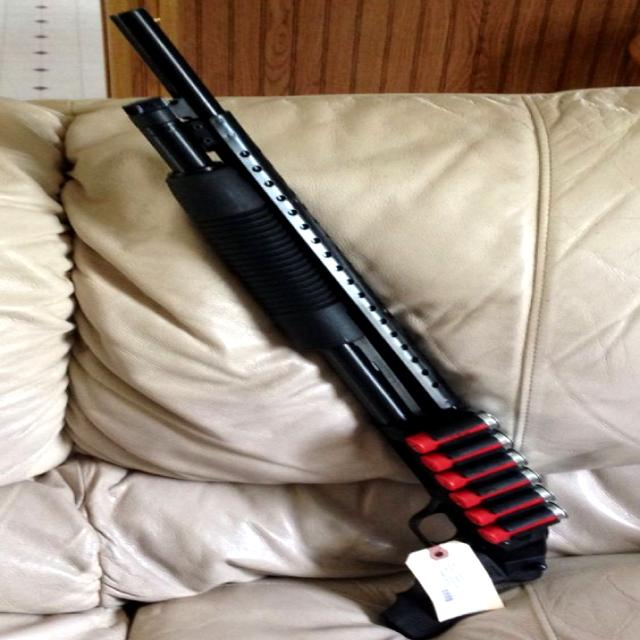shotgun: (89, 4, 572, 620)
